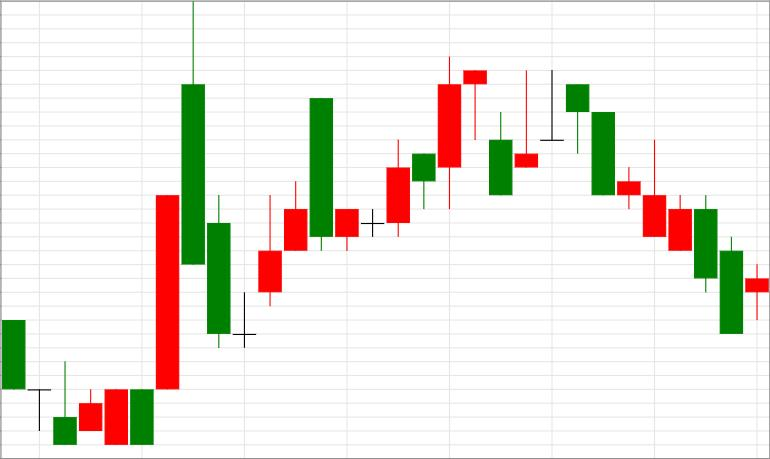evening_star_fall: (258, 57, 512, 307)
